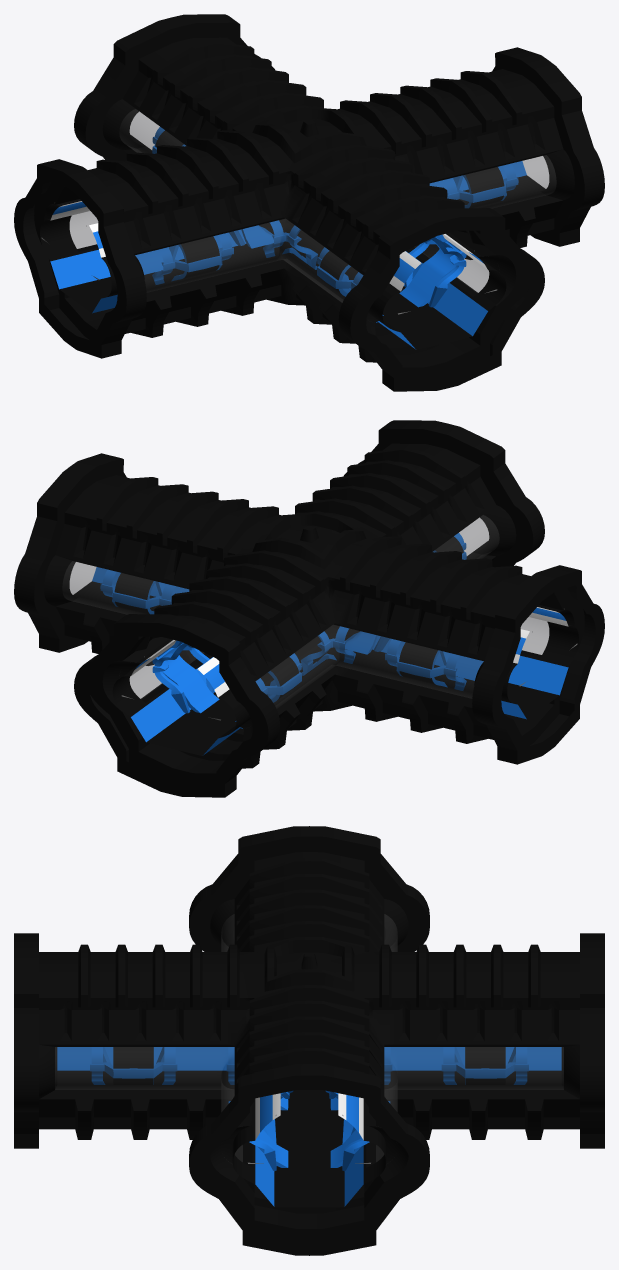
File: Connect_06.FBX
3 renders of one model, top to bottom at view 1: azimuth 30°, elevation 25°; view 2: azimuth 150°, elevation 25°; view 3: azimuth 270°, elevation 25°, orthographic. The views are drawn at different scales.
Parts seen in each view (by area): view 1: Connect_Xshape; view 2: Connect_Xshape; view 3: Connect_Xshape.
Part boxes in pixels (left/top/right/bottom): Connect_Xshape: left=14, top=14, right=604, bottom=391; Connect_Xshape: left=14, top=420, right=604, bottom=797; Connect_Xshape: left=14, top=826, right=604, bottom=1255.
Bounding box in the file's own units: 2268 × 764 × 2270.
